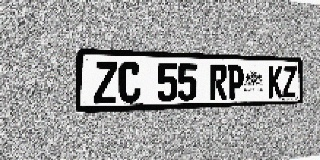5: (158, 63, 178, 102), (178, 63, 197, 101)
C: (118, 62, 141, 103)
K: (268, 66, 282, 98)
P: (227, 65, 244, 99)
R: (210, 64, 227, 100)
Z: (94, 61, 118, 104), (283, 66, 296, 98)
